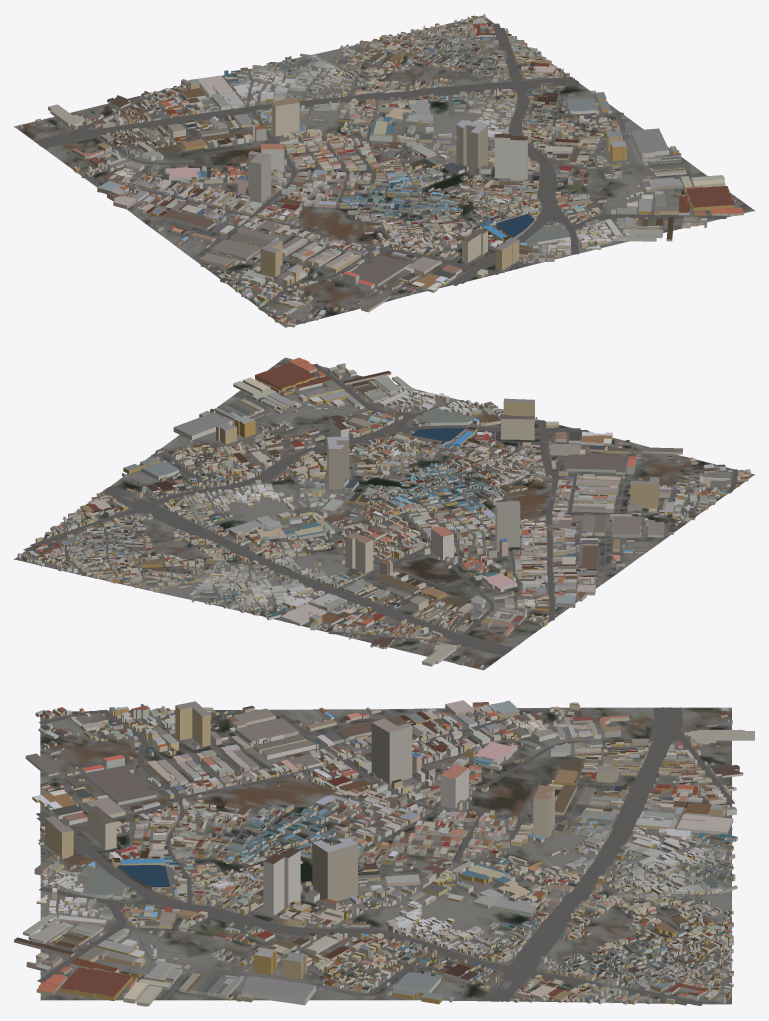
The picture shows the model from 3 angles, top to bottom: view 1: azimuth 30°, elevation 25°; view 2: azimuth 150°, elevation 25°; view 3: azimuth 270°, elevation 25°; orthographic projection. The views are drawn at different scales.
Visible parts, largest first — view 1: buildings, ground, roads; view 2: buildings, ground, roads; view 3: buildings, ground, roads.
Boxes of the visible parts, left/top/right/bottom form: buildings: left=19, top=14, right=743, bottom=327; ground: left=14, top=15, right=754, bottom=327; roads: left=19, top=22, right=752, bottom=325; buildings: left=17, top=357, right=751, bottom=668; ground: left=14, top=357, right=754, bottom=670; roads: left=23, top=358, right=751, bottom=666; buildings: left=14, top=700, right=754, bottom=1006; ground: left=40, top=707, right=731, bottom=1004; roads: left=36, top=707, right=734, bottom=1005.
Size of the model in its own units: 1448 by 128 by 1501.
